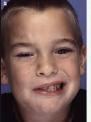strokeEyeMid: (9, 39, 79, 61)
strokeMouthMid: (32, 79, 70, 97)
